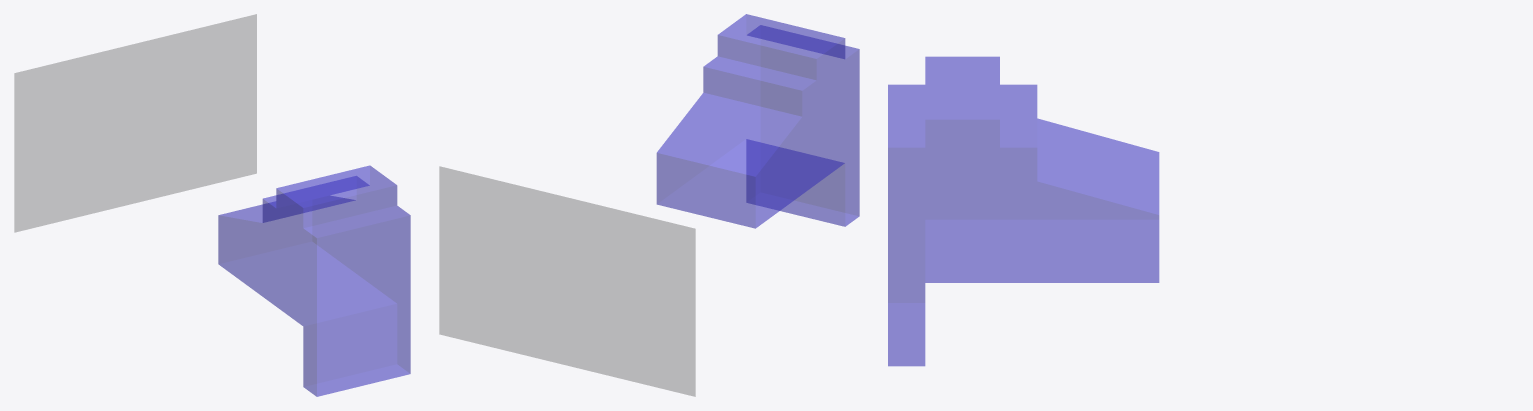
Rendered from camera.glb.
3 views of the same model, side by side, from view 1: azimuth 30°, elevation 25°; view 2: azimuth 150°, elevation 25°; view 3: azimuth 270°, elevation 25° (orthographic). The views are drawn at different scales.
Parts seen in each view (by area): view 1: Plane, Cube; view 2: Plane, Cube; view 3: Cube.
Boxes of the visible parts, bbox=[...] form: Plane: bbox=[14, 14, 256, 232]; Cube: bbox=[218, 165, 410, 396]; Plane: bbox=[439, 166, 695, 396]; Cube: bbox=[656, 14, 859, 228]; Cube: bbox=[888, 56, 1159, 366].
Size of the model in its own units: 1.52 by 1.07 by 2.48.
